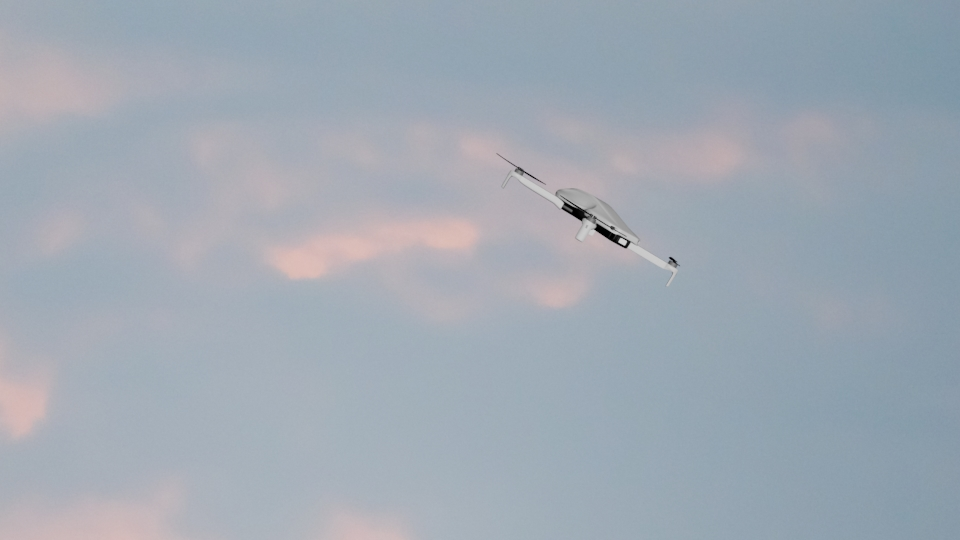drone: (500, 153, 684, 284)
